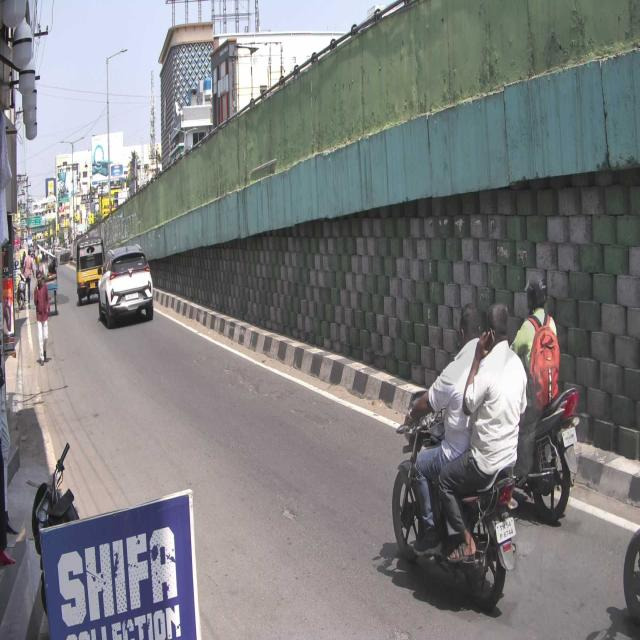double_rider: (392, 302, 526, 610)
